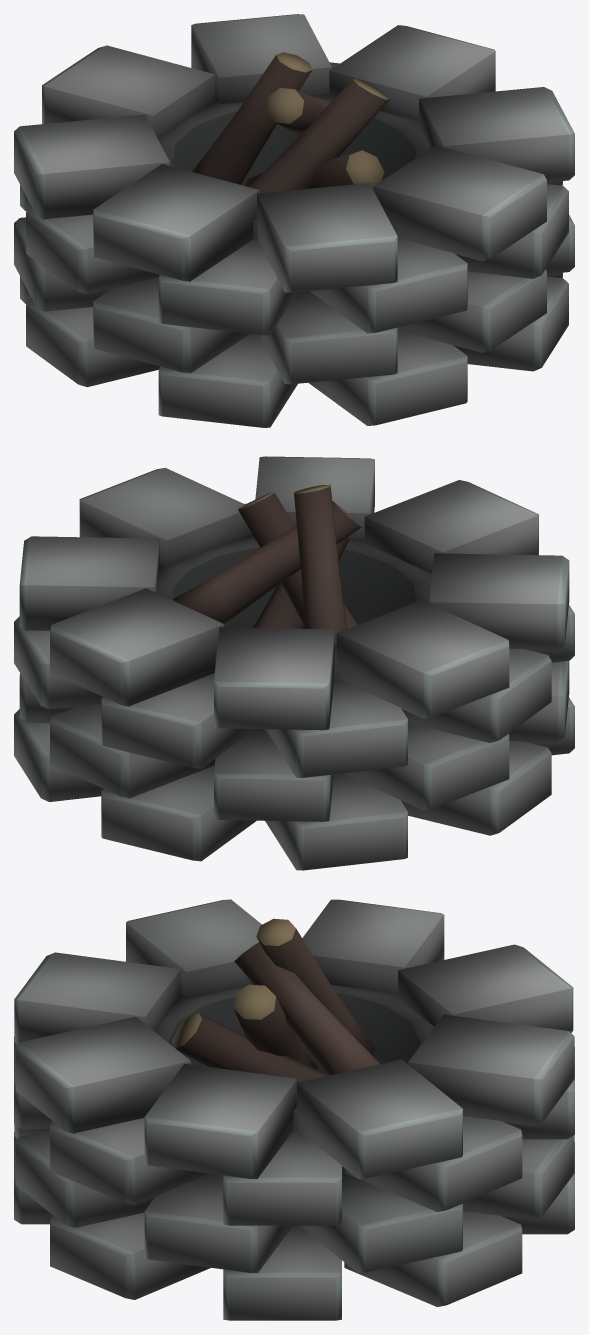
3 views of the same model, one above another, from view 1: azimuth 30°, elevation 25°; view 2: azimuth 150°, elevation 25°; view 3: azimuth 270°, elevation 25° (orthographic). The views are drawn at different scales.
Visible parts, largest first — view 1: base.045; view 2: base.045; view 3: base.045.
Boxes of the visible parts, x1=… form: base.045: x1=14, y1=14, x2=574, y2=427; base.045: x1=14, y1=456, x2=574, y2=870; base.045: x1=14, y1=899, x2=574, y2=1320.
Size of the model in its own units: 0.5 by 0.2693 by 0.5.
